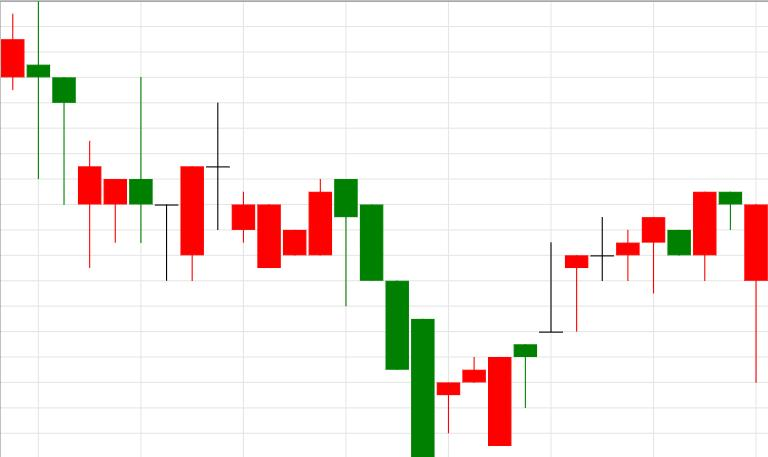hanging_man_fall: (231, 179, 358, 306)
